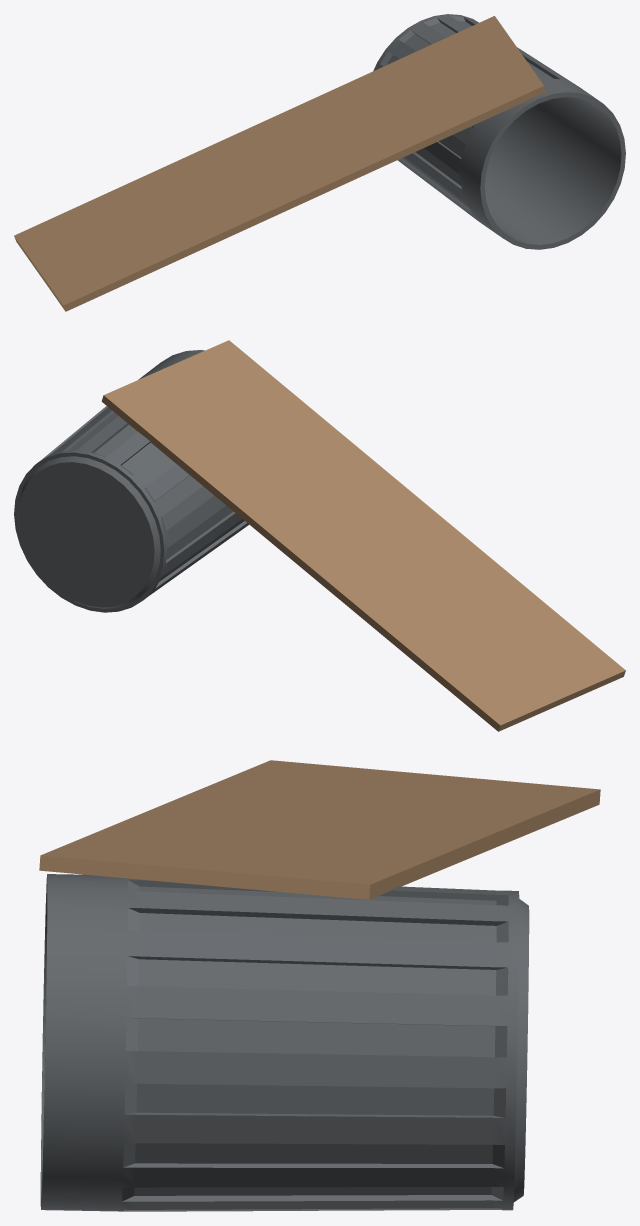
The model's file is TrashCan_Ramp.fbx.
The picture shows the model from 3 angles, top to bottom: view 1: azimuth 30°, elevation 25°; view 2: azimuth 150°, elevation 25°; view 3: azimuth 270°, elevation 25°; orthographic projection. The views are drawn at different scales.
Visible parts, largest first — view 1: Trash_Can_Board_RAmp; view 2: Trash_Can_Board_RAmp; view 3: Trash_Can_Board_RAmp.
Part boxes in pixels (bbox=[...]): Trash_Can_Board_RAmp: bbox=[14, 14, 625, 311]; Trash_Can_Board_RAmp: bbox=[14, 340, 625, 731]; Trash_Can_Board_RAmp: bbox=[39, 760, 600, 1211].
Size of the model in its own units: 238 by 75.21 by 115.
